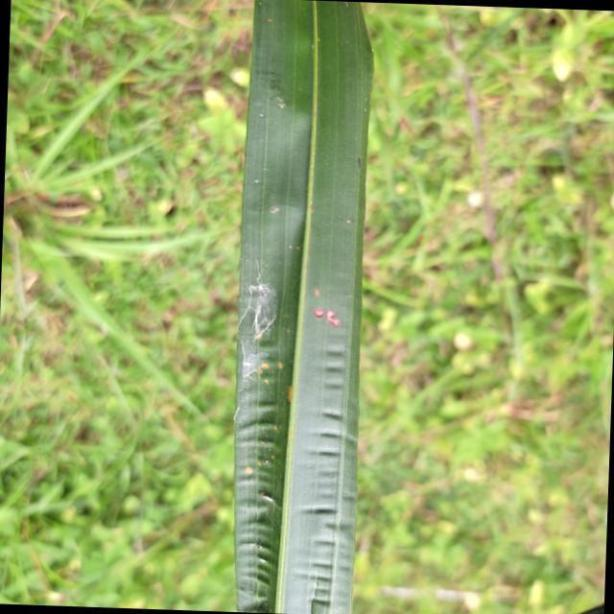Boron: (228, 0, 375, 614)
